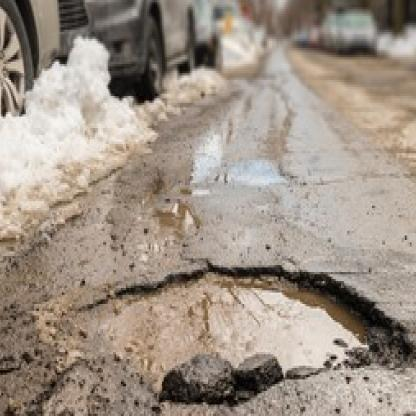pothole: (67, 258, 410, 405)
